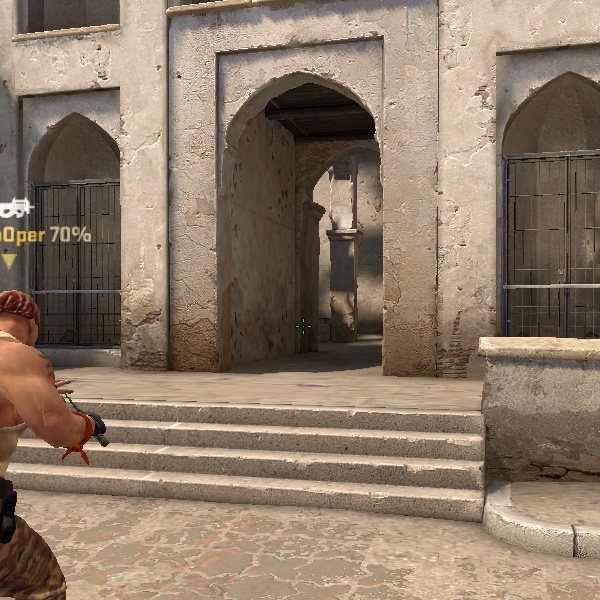t_head: (1, 285, 42, 353)
